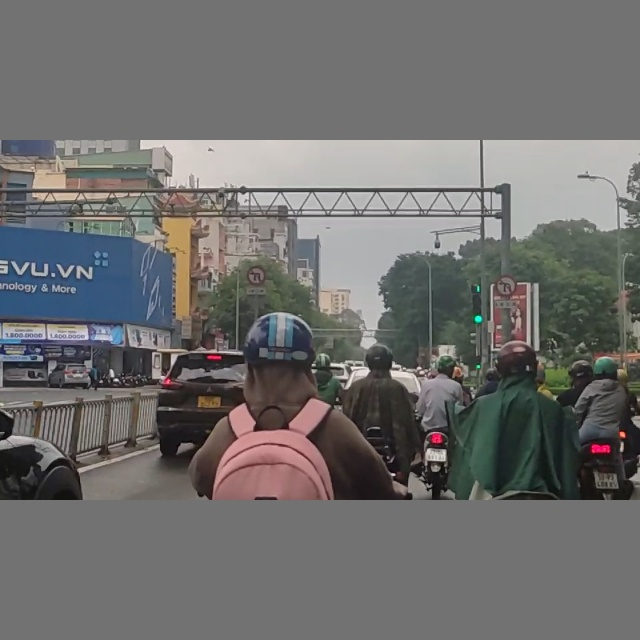P.124c: (496, 275, 515, 297), (247, 265, 267, 285)
